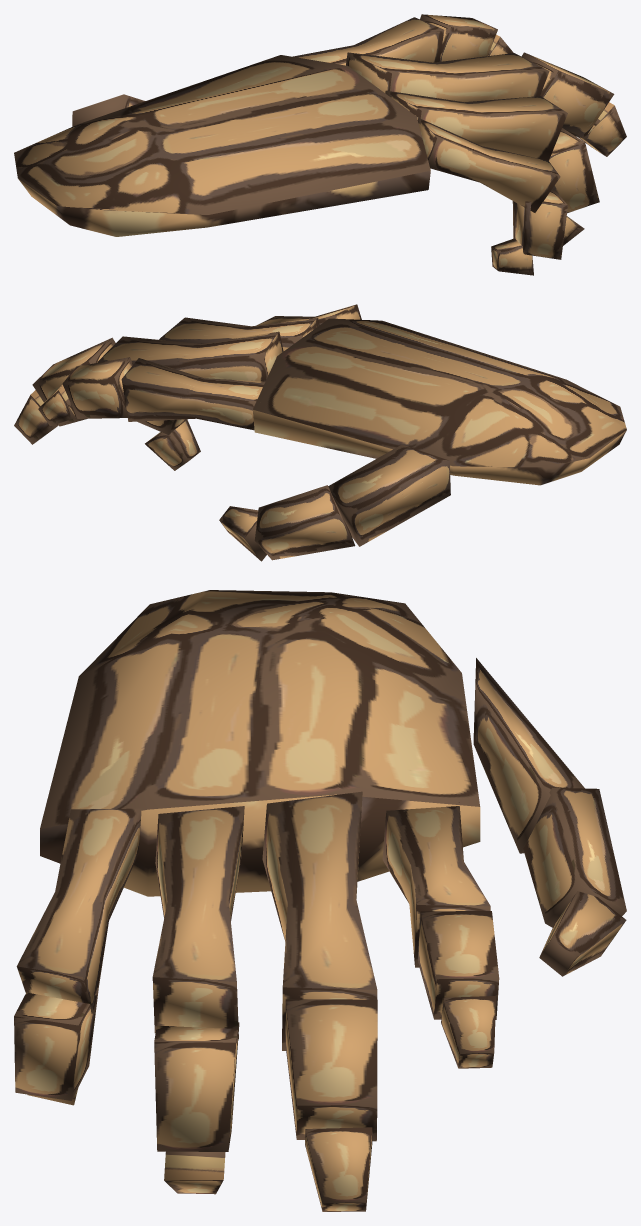
The model's file is SM_PROP_skeleton_hand_R_dungeon.fbx.
3 renders of one model, top to bottom at view 1: azimuth 30°, elevation 25°; view 2: azimuth 150°, elevation 25°; view 3: azimuth 270°, elevation 25°, orthographic. The views are drawn at different scales.
Parts seen in each view (by area): view 1: SM_PROP_skeleton_hand_R_dungeon; view 2: SM_PROP_skeleton_hand_R_dungeon; view 3: SM_PROP_skeleton_hand_R_dungeon.
Part boxes in pixels (<box>): SM_PROP_skeleton_hand_R_dungeon: <box>14,14,626,275</box>; SM_PROP_skeleton_hand_R_dungeon: <box>14,304,626,561</box>; SM_PROP_skeleton_hand_R_dungeon: <box>14,590,626,1211</box>.
Size of the model in its own units: 27.8 by 8.52 by 15.94.
